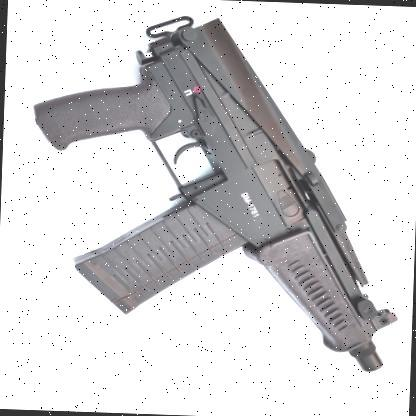rifle: (26, 7, 416, 358)
